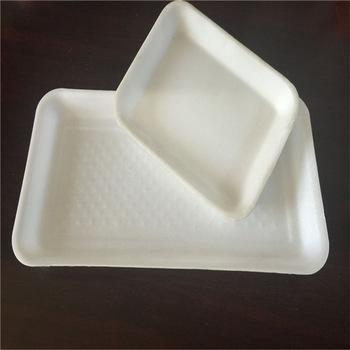PS: (0, 0, 350, 317)
